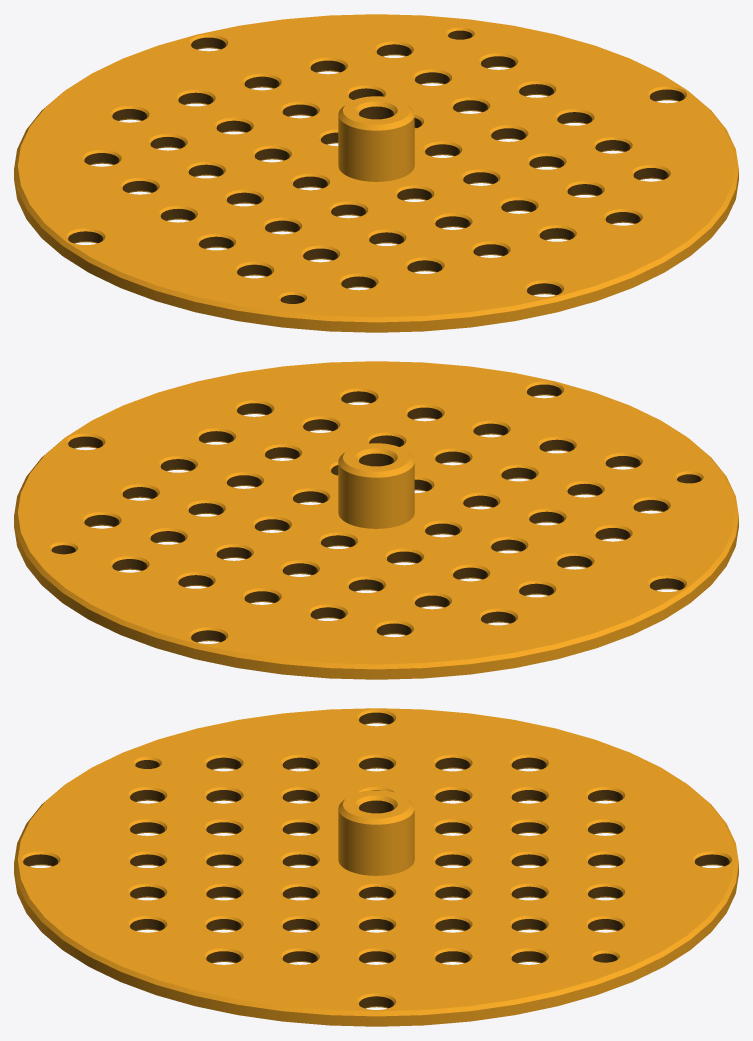
Rendered from maza-grande.glb.
3 renders of one model, top to bottom at view 1: azimuth 30°, elevation 25°; view 2: azimuth 150°, elevation 25°; view 3: azimuth 270°, elevation 25°, orthographic.
Visible parts, largest first — view 1: geometry_0, geometry_1; view 2: geometry_0, geometry_1; view 3: geometry_0, geometry_1.
Part boxes in pixels (box(x1,y1,x2,y2)): geometry_0: box(14, 14, 738, 332); geometry_1: box(68, 30, 684, 303); geometry_0: box(14, 361, 738, 679); geometry_1: box(51, 384, 701, 641); geometry_0: box(14, 708, 738, 1026); geometry_1: box(23, 712, 729, 1007).
Bounding box in the file's own units: 0.095 × 0.01 × 0.095.
